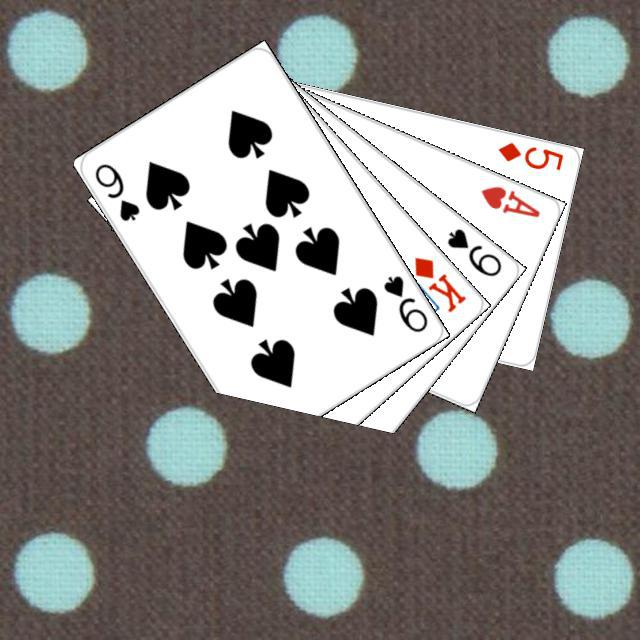5d: (493, 137, 565, 172)
9s: (442, 223, 504, 279), (89, 158, 142, 223), (378, 270, 430, 335)
Ah: (475, 180, 542, 219)
Kd: (409, 252, 468, 315)
